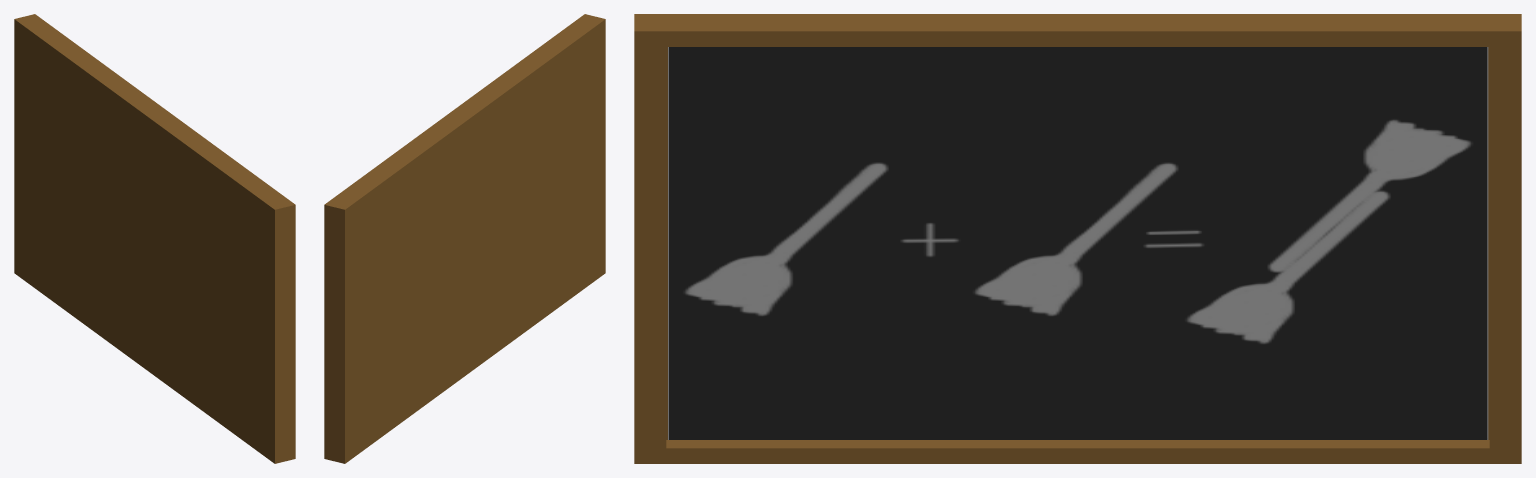
Rendered from Crafting Sign.fbx.
3 renders of one model, left to right at view 1: azimuth 30°, elevation 25°; view 2: azimuth 150°, elevation 25°; view 3: azimuth 270°, elevation 25°, orthographic. The views are drawn at different scales.
Parts seen in each view (by area): view 1: CraftingSign; view 2: CraftingSign; view 3: CraftingSign.
Boxes of the visible parts, left/top/right/bottom form: CraftingSign: left=14, top=14, right=295, bottom=463; CraftingSign: left=324, top=14, right=605, bottom=463; CraftingSign: left=634, top=14, right=1521, bottom=463.
Bounding box in the file's own units: 17.13 × 200 × 372.
Materials: 2 (1 with a texture image).
